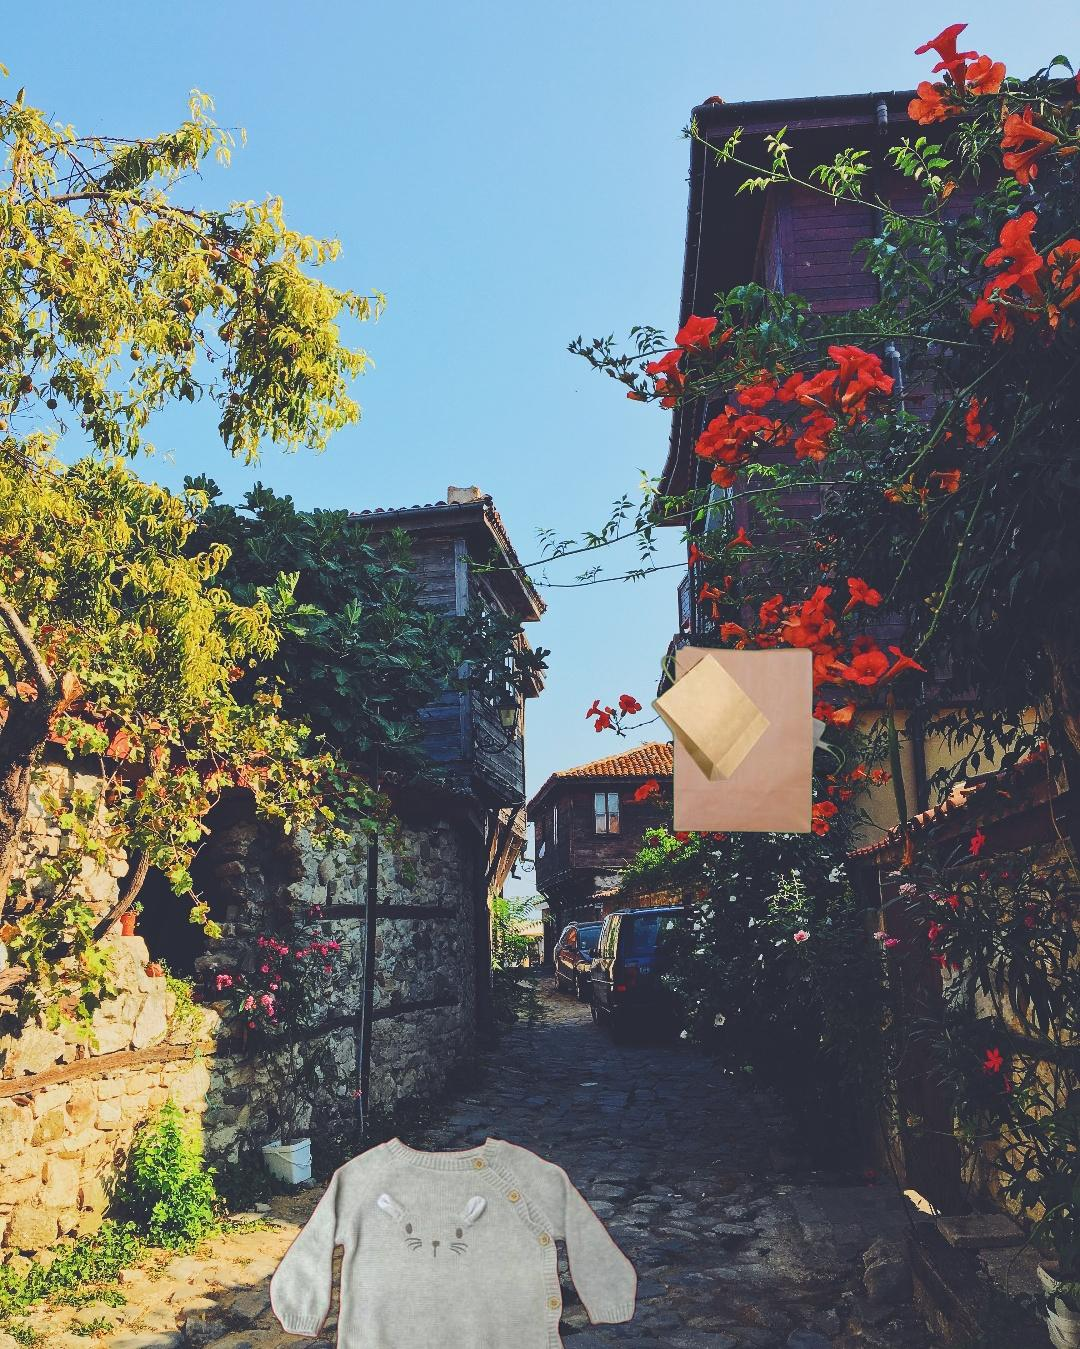clothes: (267, 1133, 641, 1349)
paper-bag: (649, 643, 847, 837)
